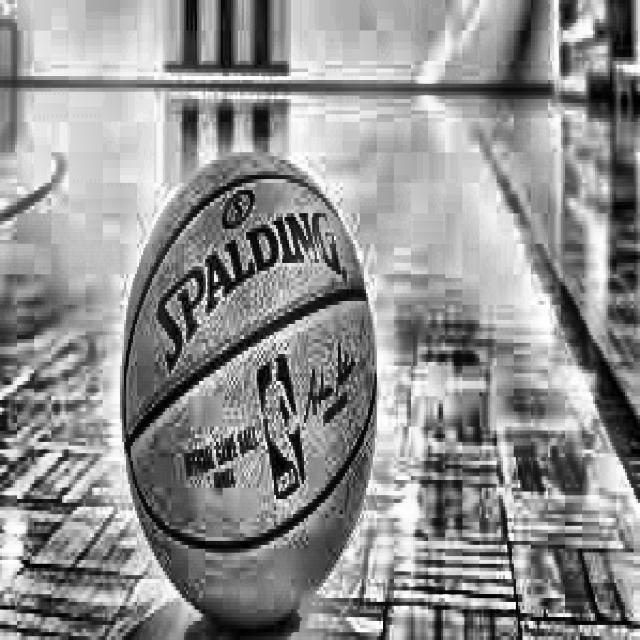Basketball: (122, 156, 377, 623)
